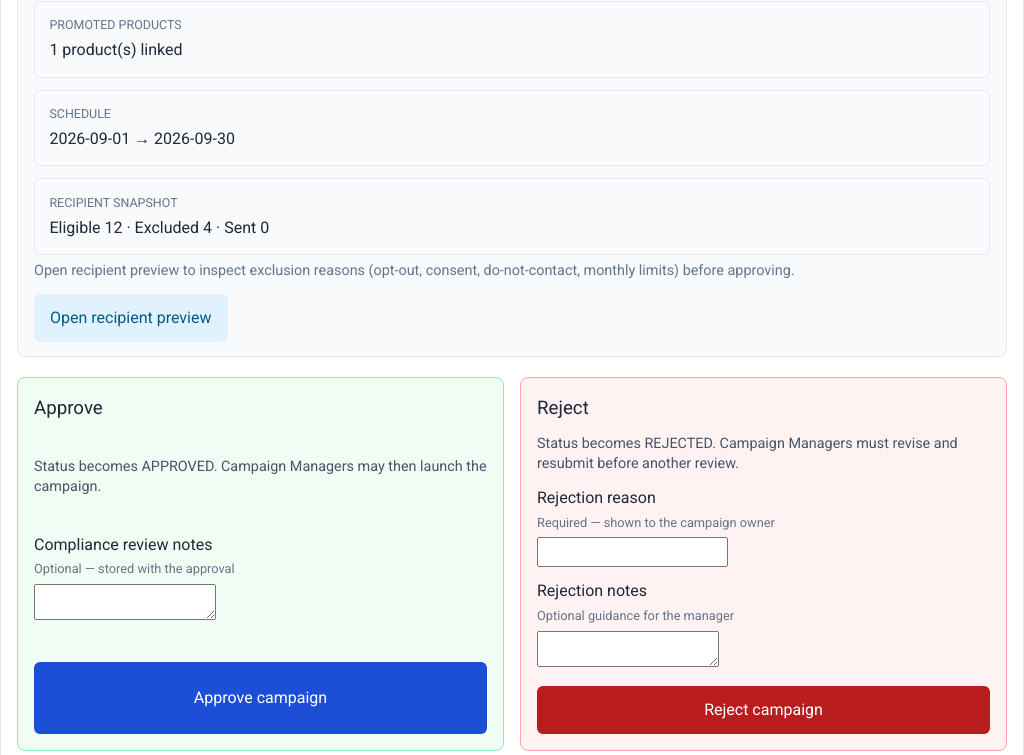
Test: CompliancePage (item 593) › rejects a submitted campaign with reason, notes, and confirmation
The width and height of the screenshot is (1024, 755).
(page scrolled)
Type "Missing consent language" into the field labelled "Rejection reason" at (632,552), box [537,538,728,568]
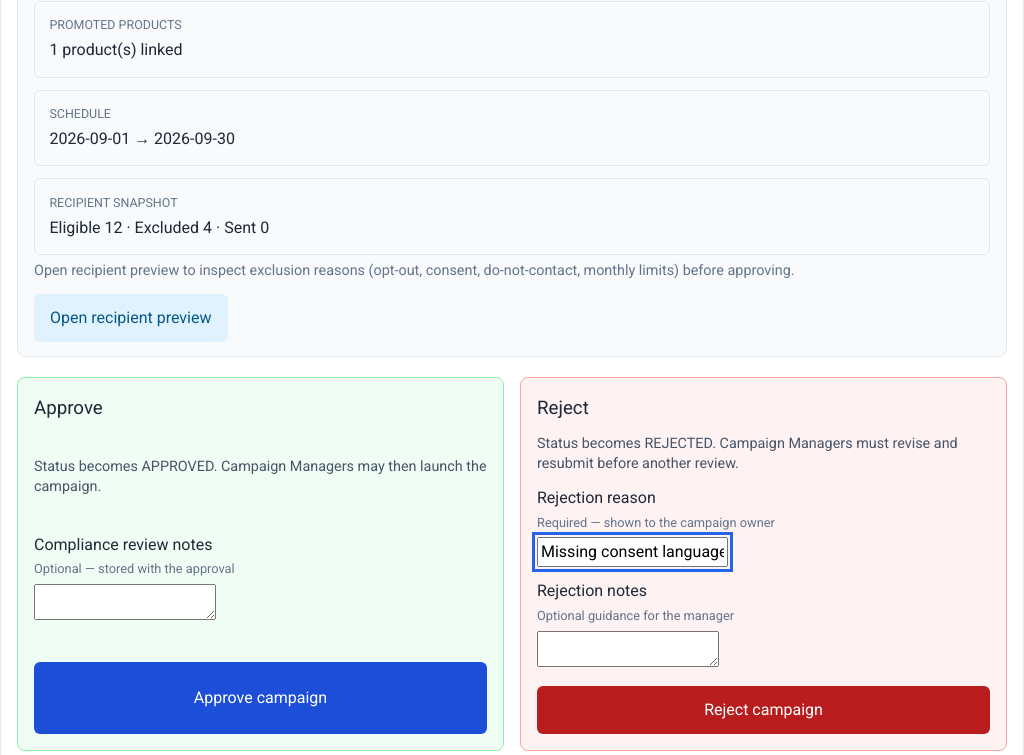
Type "Add opt-out copy" into the text box named "Rejection compliance notes" at (628,649), box [537,631,719,667]
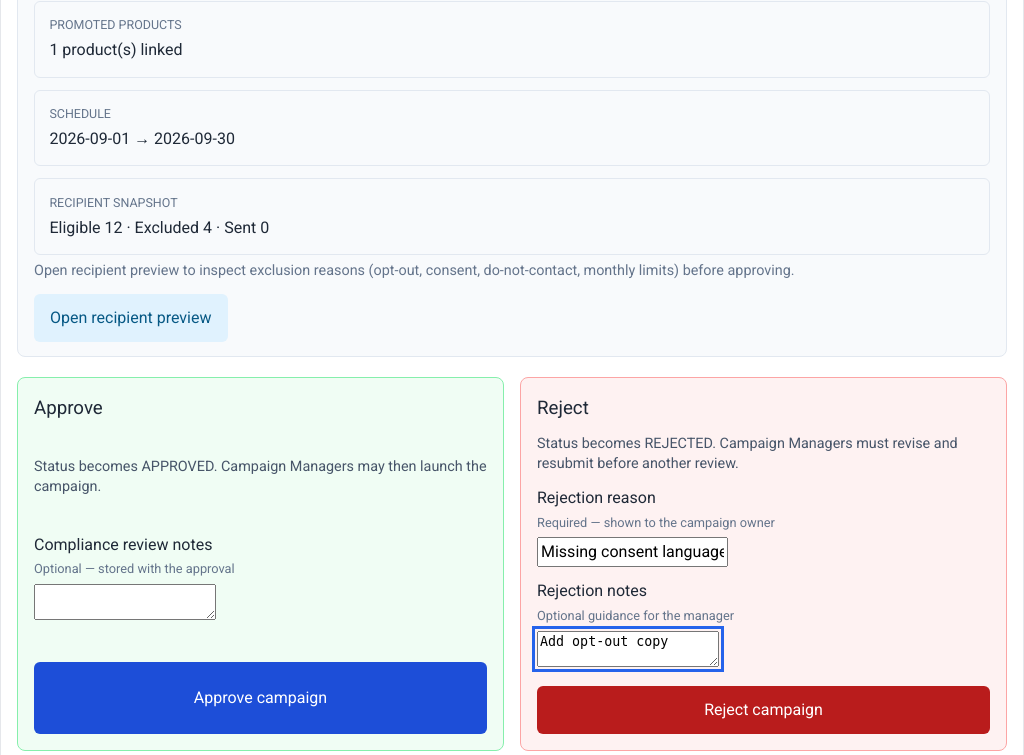
Click the button "Reject campaign" at (764,710), box [537,686,990,734]
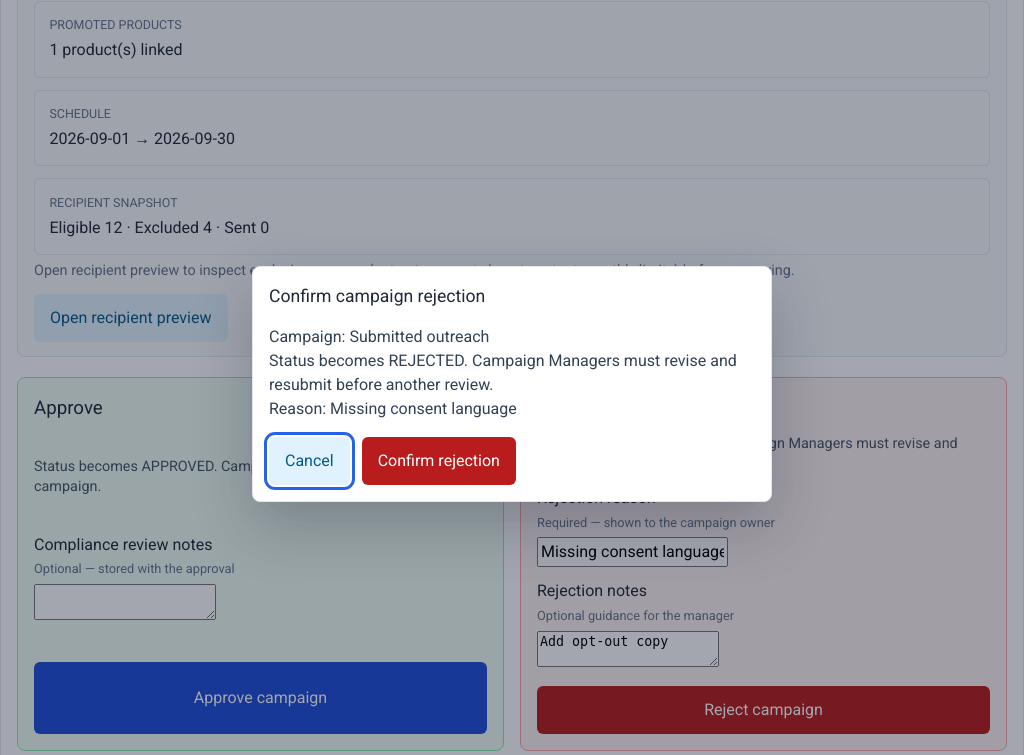
Expected: the dialog is shown, [252,266,772,502]
Expected: the heading "Confirm campaign rejection" is shown, [269,283,485,309]
Expected: the text "Missing consent language" is shown, [330,399,517,418]
Click the button "Confirm rejection" at (439,461), box [362,437,516,485]
(page scrolled)
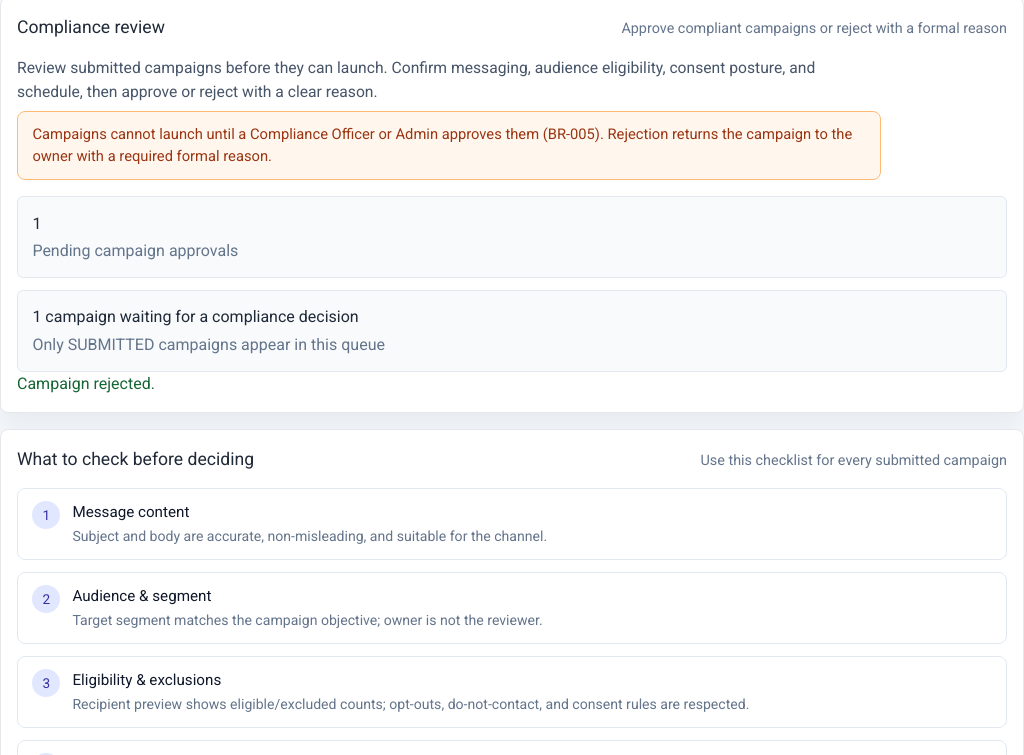
Expected: the message with test id "compliance-decision-notice" reads "Campaign rejected.", [17,374,155,393]
